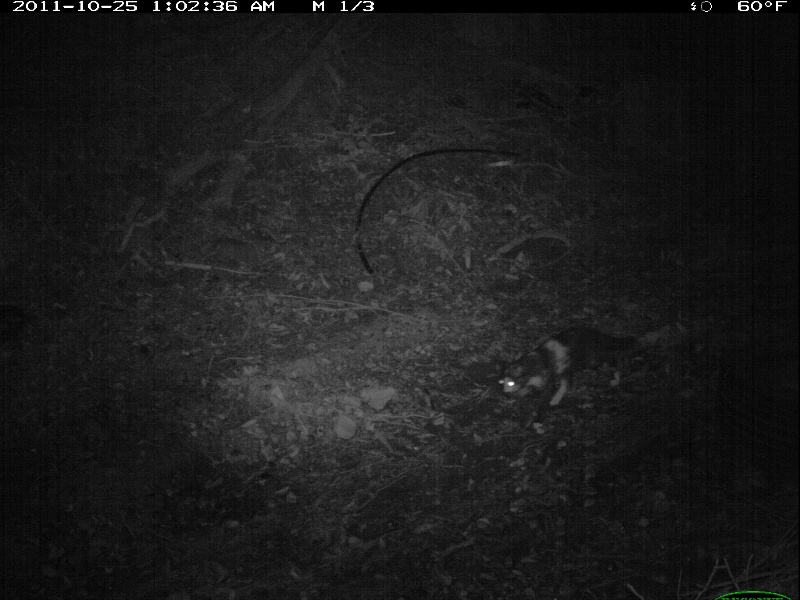cat: (494, 323, 647, 405)
